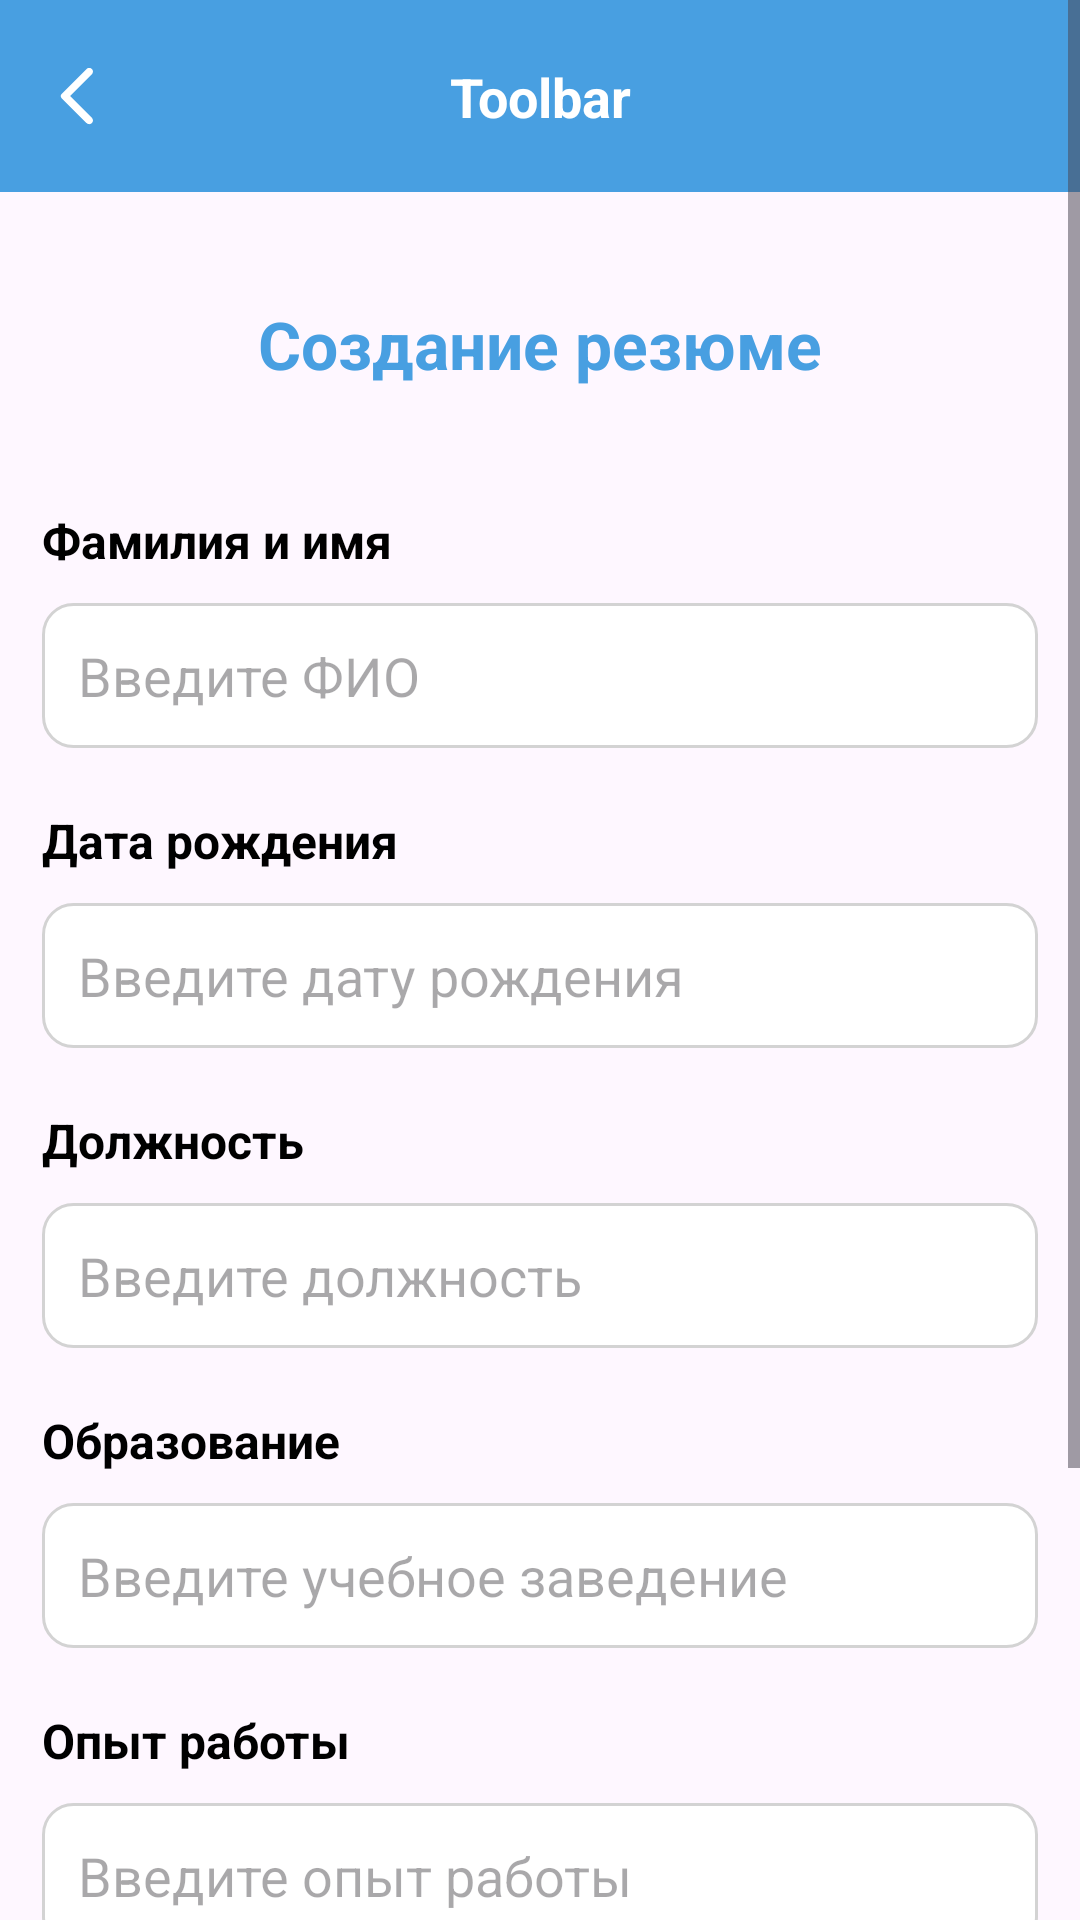

Named icons in this screenshot (1080 × 1920) and their bounding boxes, bbox=(x1, y1, x2, y2):
back: bbox=(60, 68, 93, 124)
